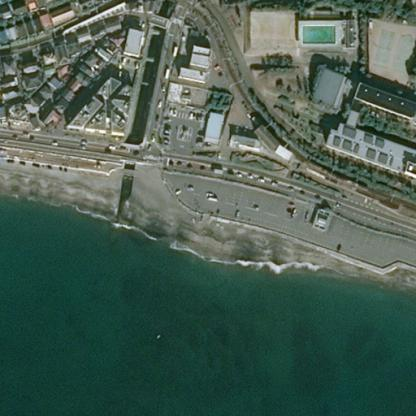ship: (155, 334, 160, 338)
